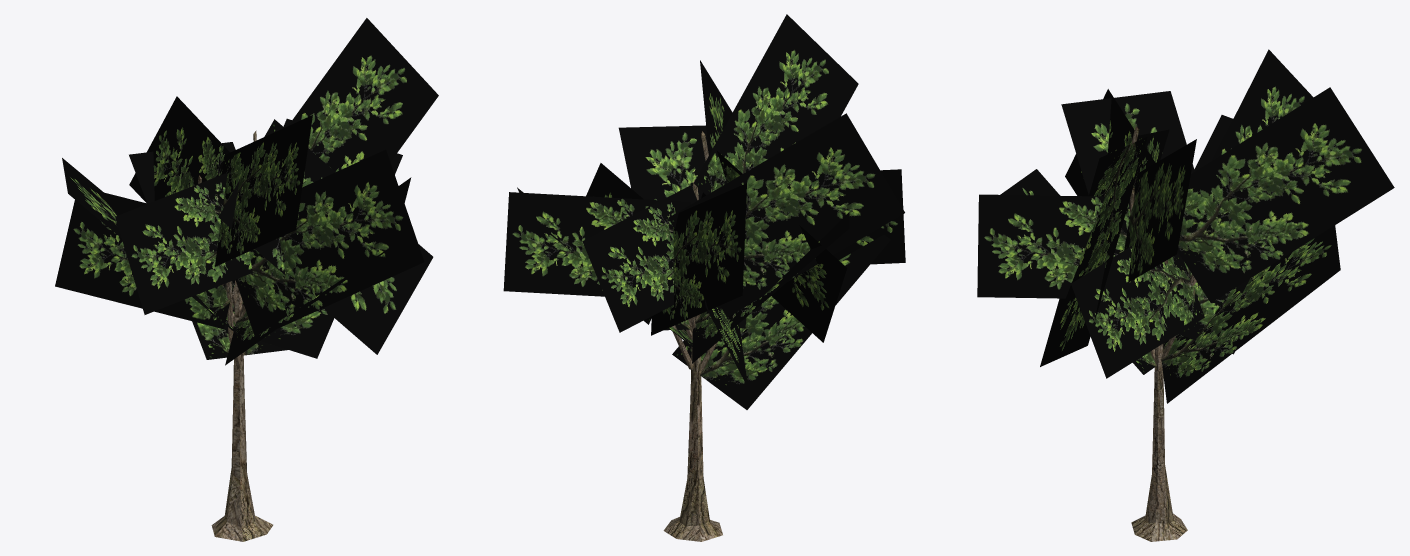
File: tree.gltf
The picture shows the model from 3 angles, left to right: view 1: azimuth 30°, elevation 25°; view 2: azimuth 150°, elevation 25°; view 3: azimuth 270°, elevation 25°; orthographic projection. The views are drawn at different scales.
Visible parts, largest first — view 1: Tree; view 2: Tree; view 3: Tree.
Part boxes in pixels (x1,y1,x2,y2): Tree: (55, 18, 438, 541); Tree: (503, 14, 905, 541); Tree: (977, 49, 1394, 541).
Size of the model in its own units: 15.44 by 17.33 by 15.24.
Materials: 1 (1 with a texture image).
